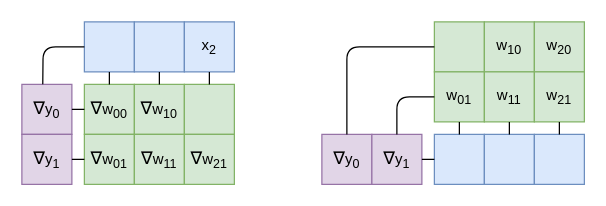
The diagram is 606 pixels wide and 206 high, and some of its shapes have lost their labels. The shapes that lost their labels are listed below. From the top down, each one's box as (x1, y1, x2, y2) in pixels, then its label:
(83, 21, 134, 72): x 0
(133, 21, 184, 72): x 1
(433, 21, 484, 72): w 00
(183, 83, 234, 134): ∇ w 20
(433, 133, 484, 184): ∇ x 0
(483, 133, 534, 184): ∇ x 1
(533, 133, 584, 184): ∇ x 2
